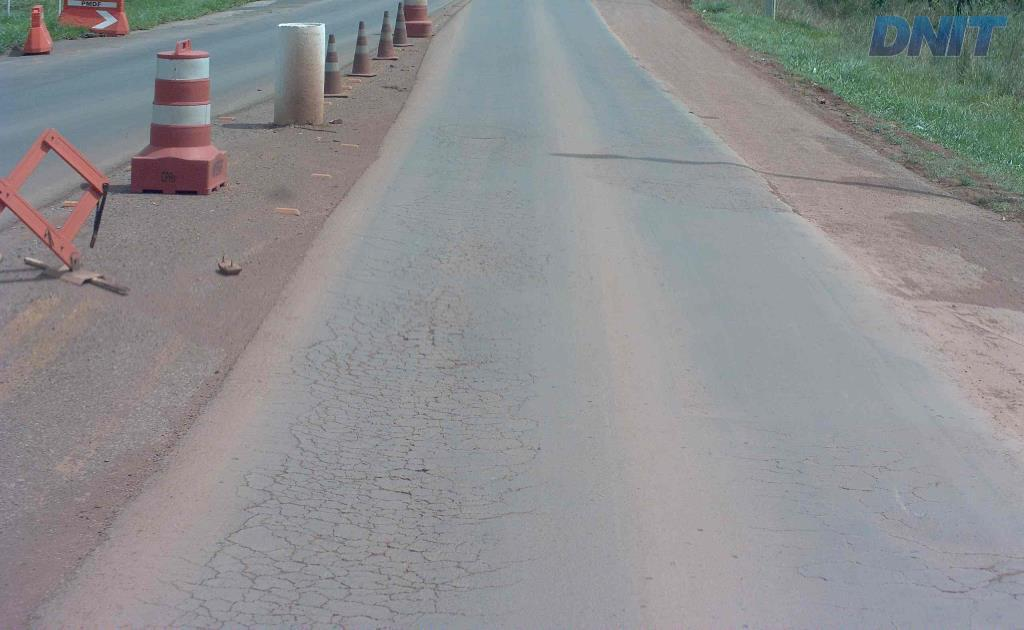crack: (206, 374, 503, 629), (420, 341, 507, 430), (468, 234, 532, 277), (431, 123, 496, 148)
